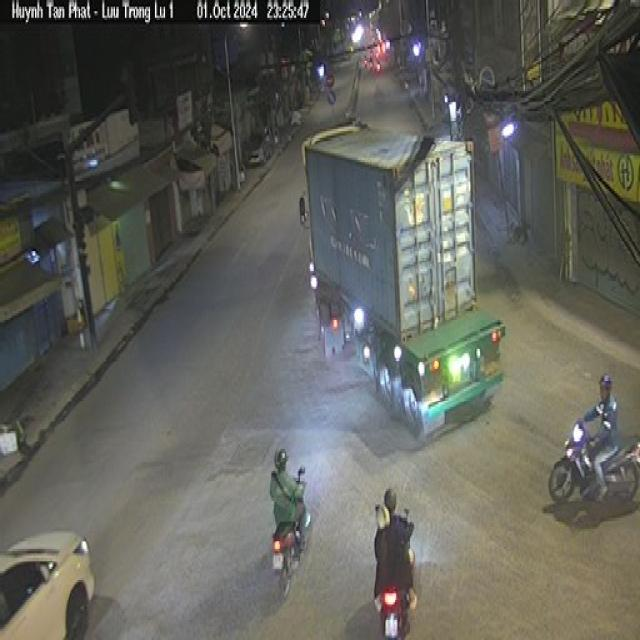car: (2, 522, 97, 640), (240, 118, 274, 173)
container-truck: (298, 118, 518, 432)
motorcycle: (548, 419, 640, 512), (274, 487, 306, 603), (373, 587, 418, 640)
person: (270, 428, 304, 534), (383, 484, 412, 601), (598, 372, 617, 498), (370, 499, 394, 585)
